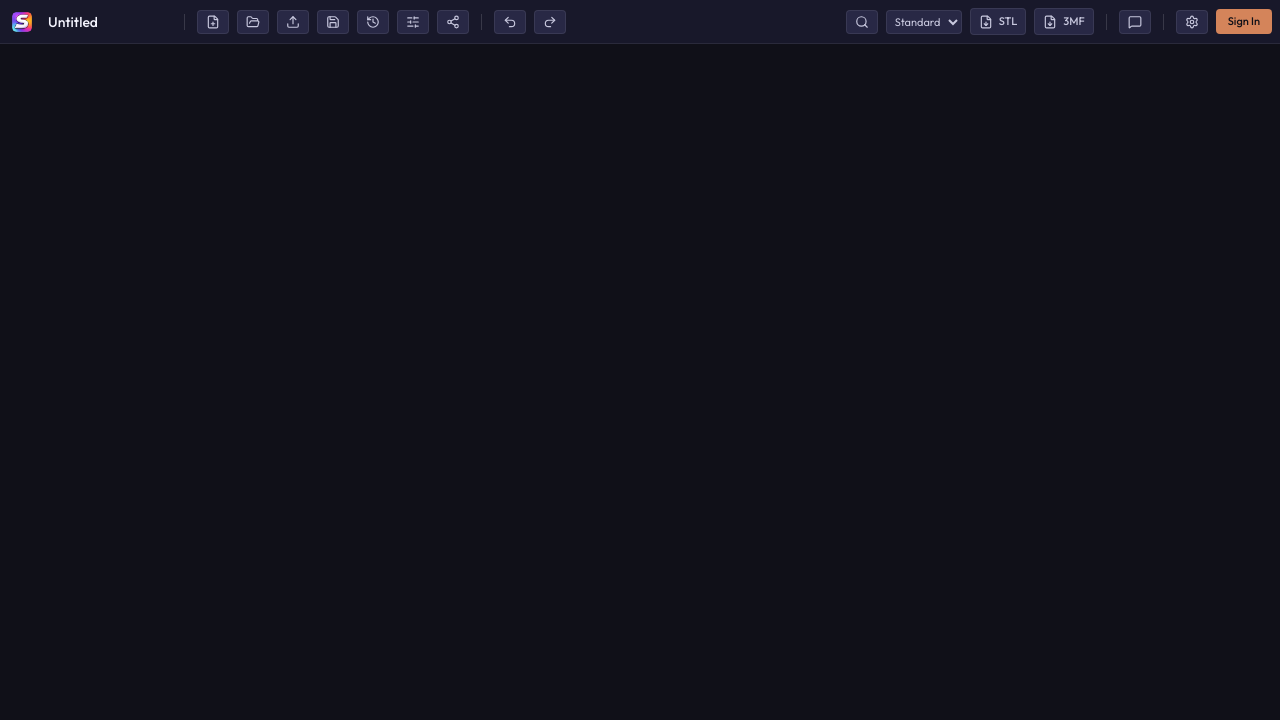
Test case: Toolbar save status › announces a successful explicit cloud save
The image size is (1280, 720).
Click the button titled "Save to cloud" at (333,22), box [317,10,349,34]
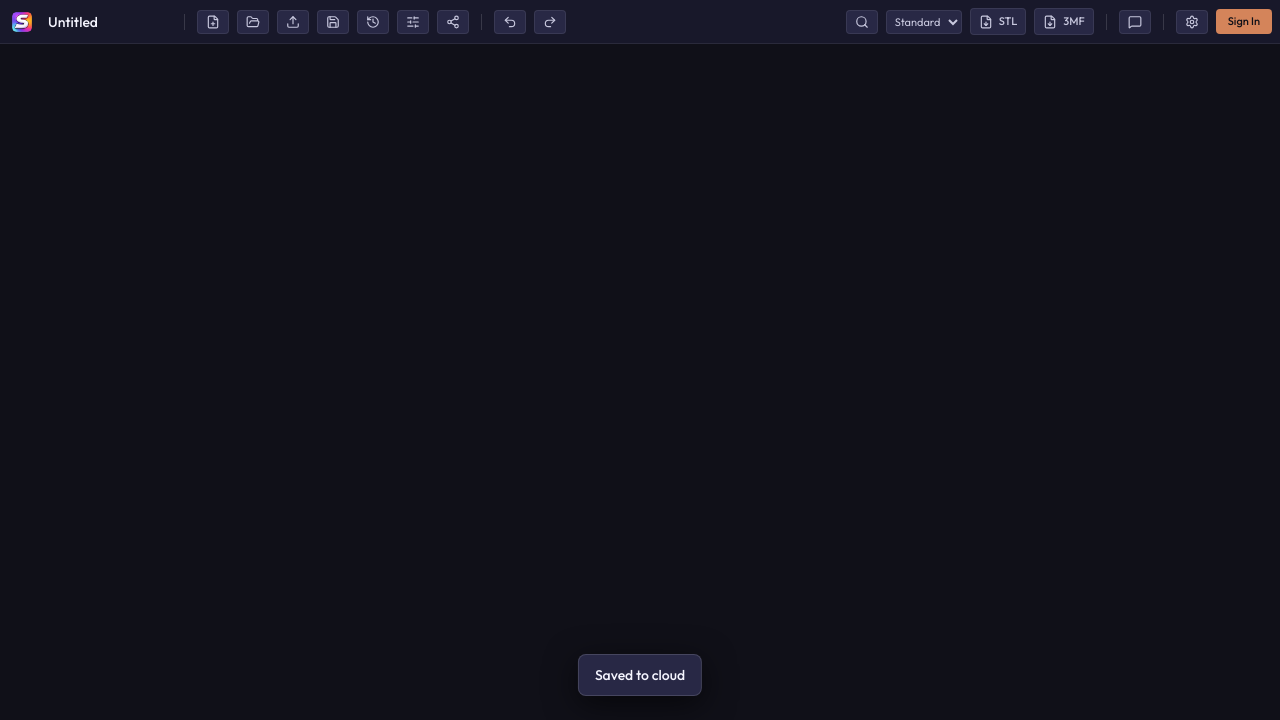
Expected: the message reads "Saved to cloud", [595,666,685,684]
